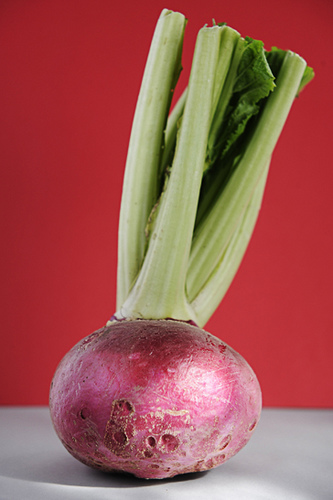turnip: (47, 319, 266, 483)
